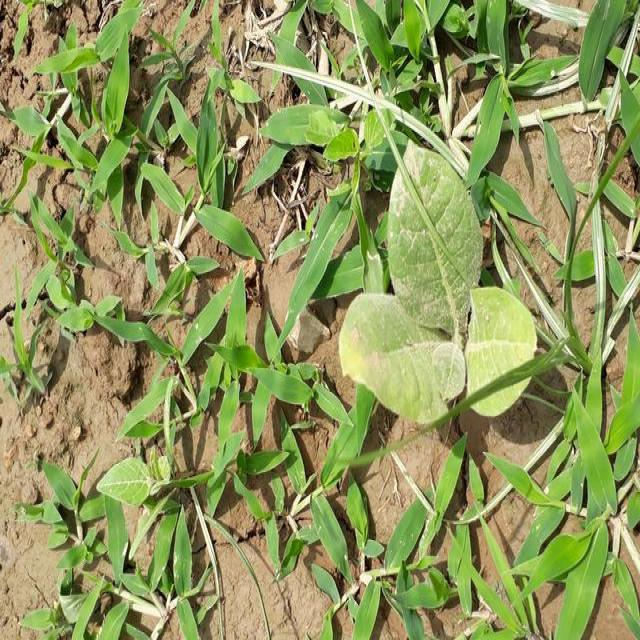crop: (332, 112, 552, 449)
